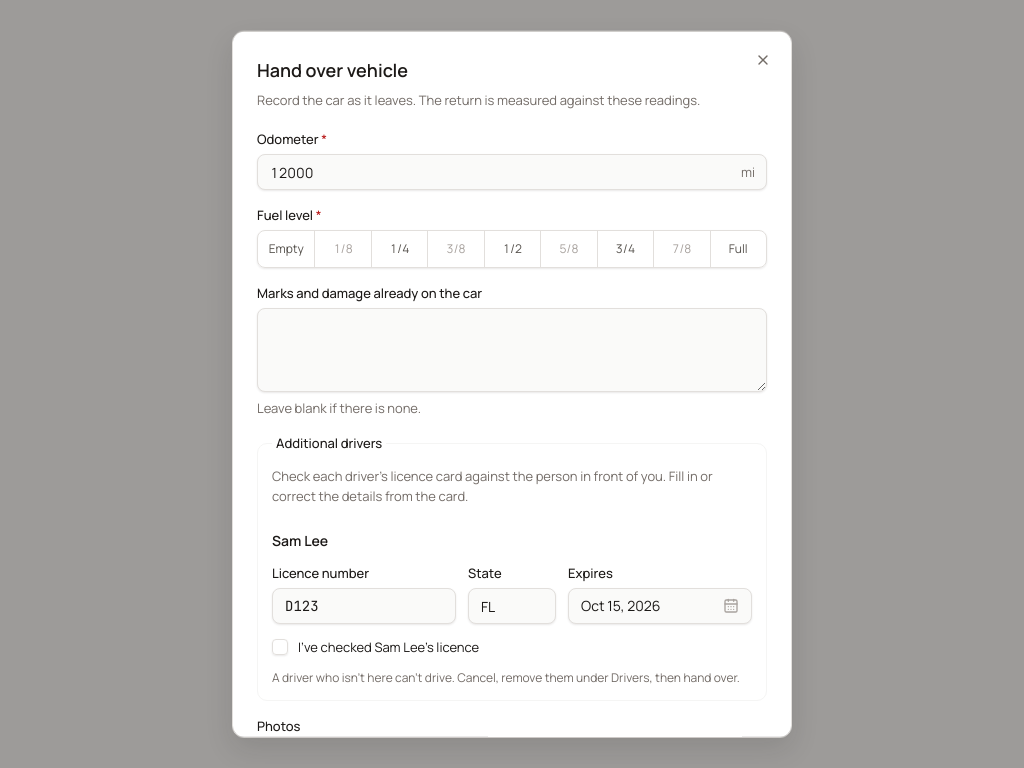
Test: BookingConditionDialog › refuses a licence that runs out while the form is open across midnight
Step 1. Click the radio button labelled "Full" → (738, 249), box [710,231,766,267]
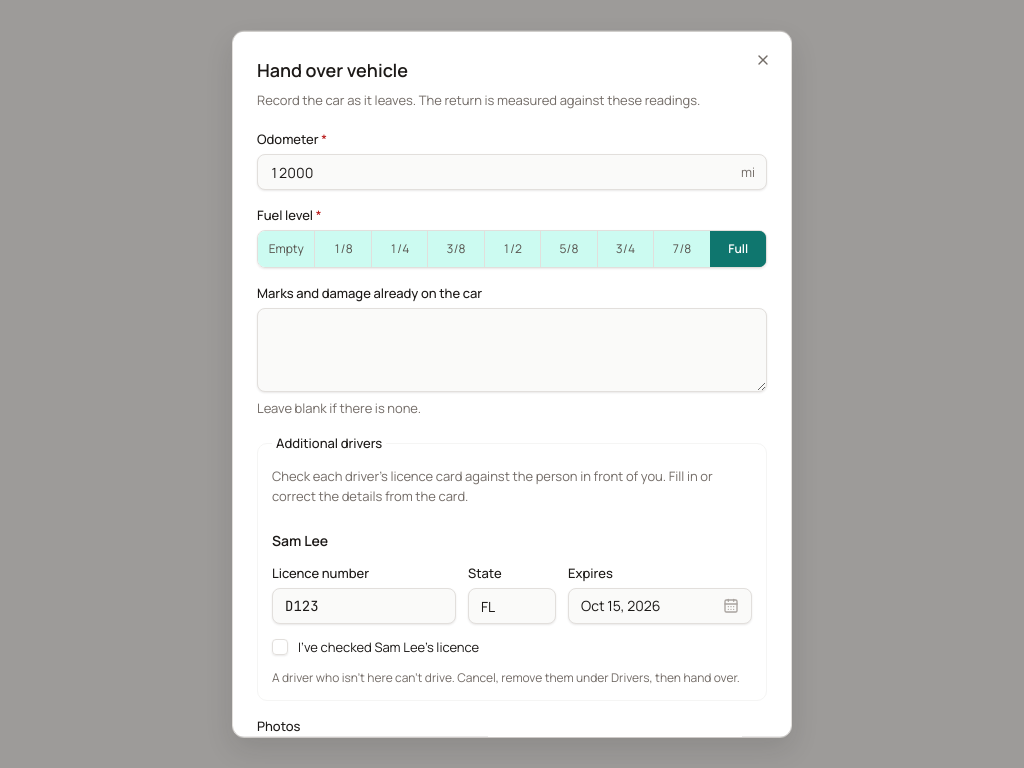
Step 2. Click the checkbox named "I've checked Sam Lee's licence" → (280, 647), box [272,639,288,655]
(page scrolled)
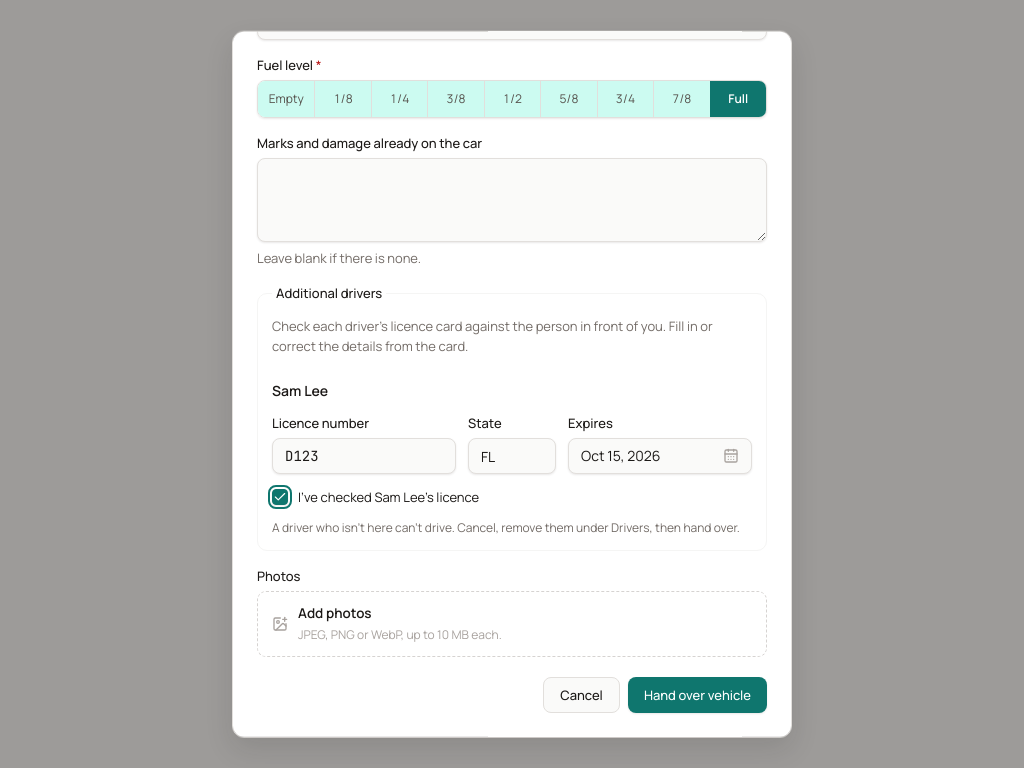
Step 3. Click the button "Hand over vehicle" → (697, 695), box [628,677,767,713]
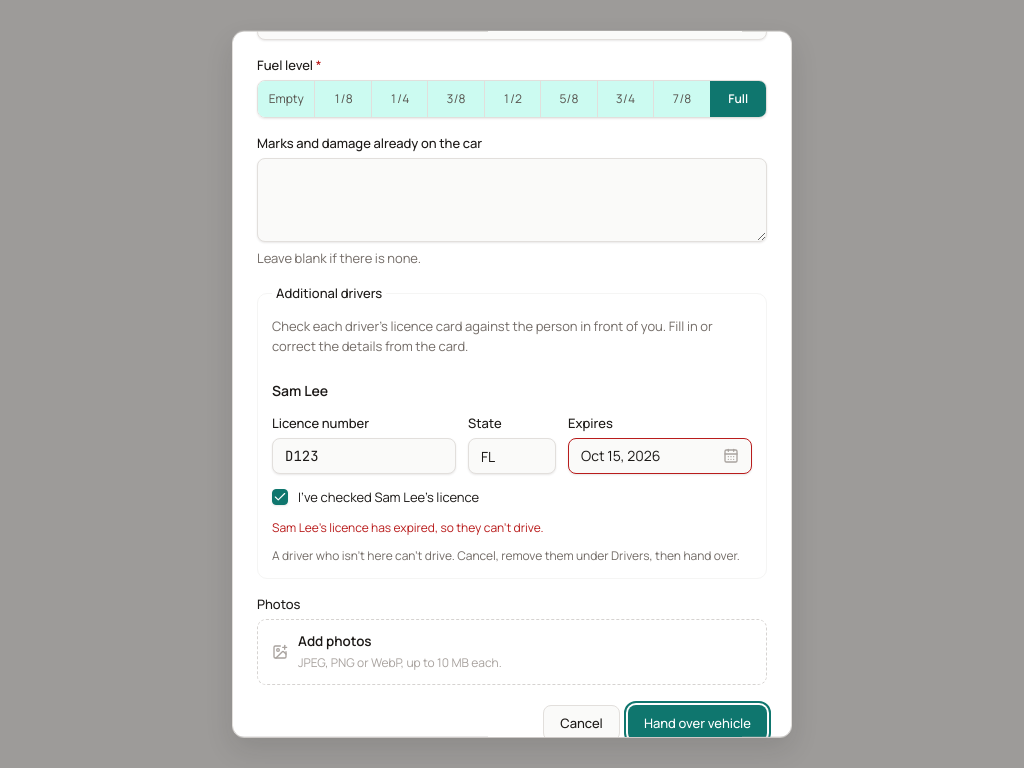
Result: the text "Sam Lee's licence has expired, so they can't drive." is shown at [272,519,544,536]
